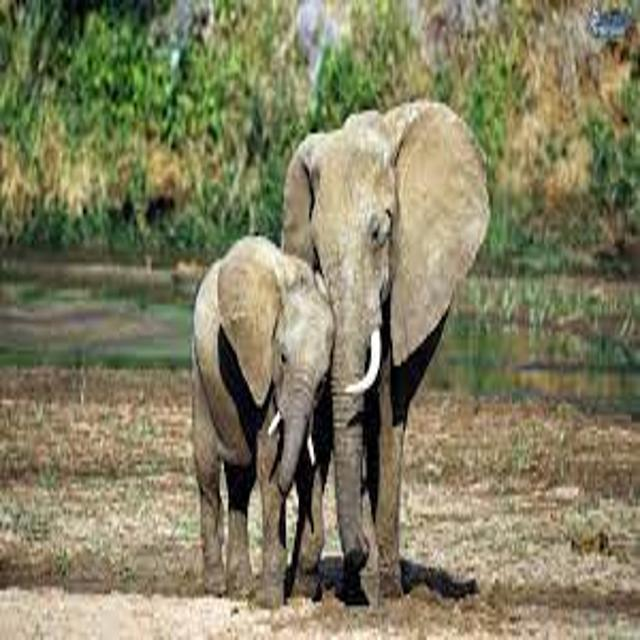Elephant: (260, 68, 511, 596), (162, 221, 354, 614)
